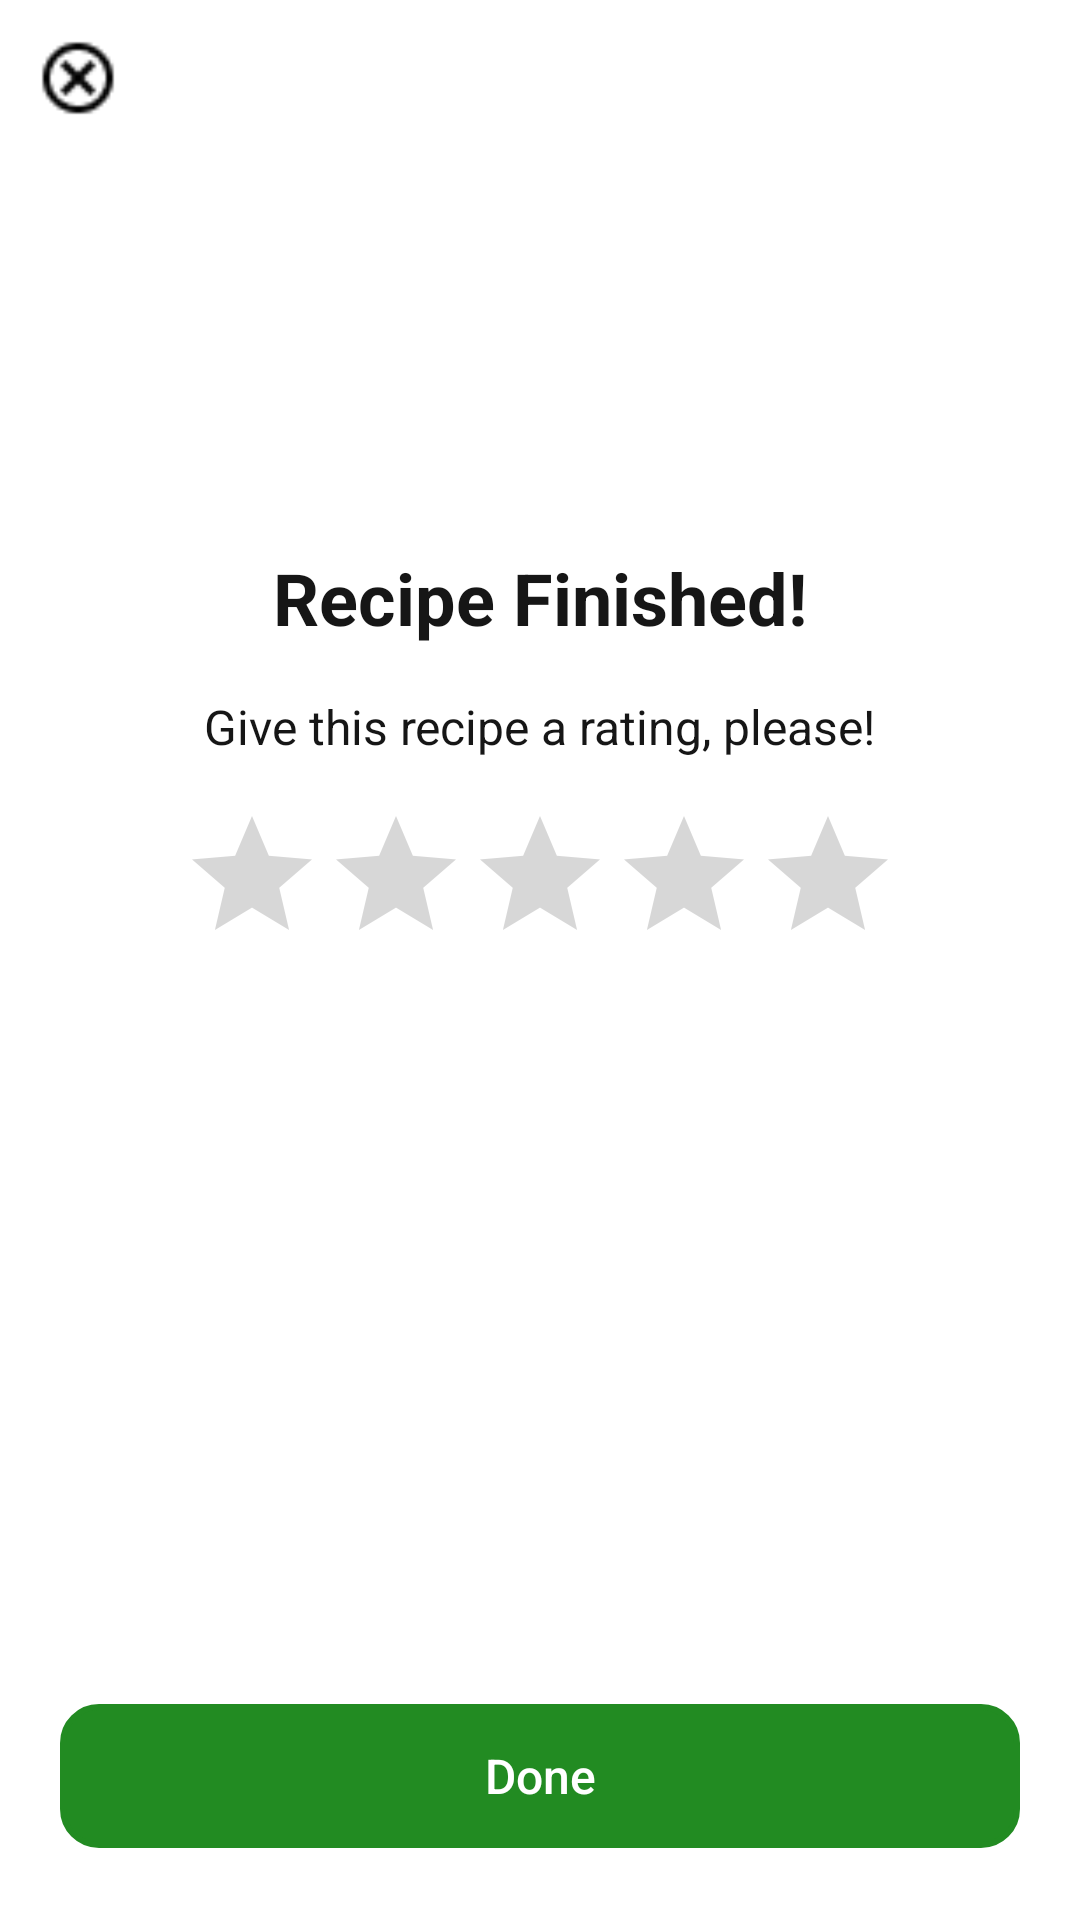

Where to tap for icons on this 1080 × 1920 app screen, as (x=x, y=y):
cancel: (x=78, y=78)
